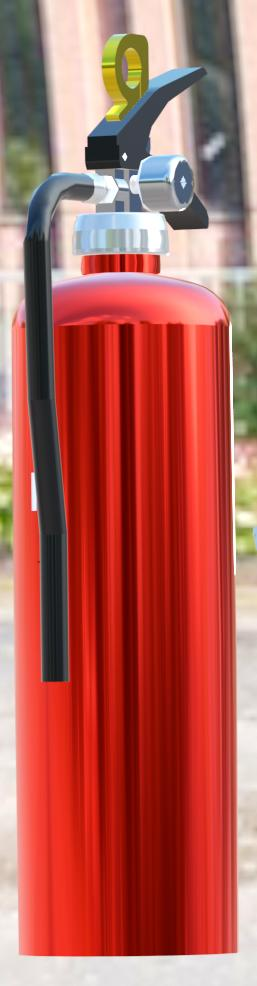fire_extinguisher: (0, 1, 257, 986)
